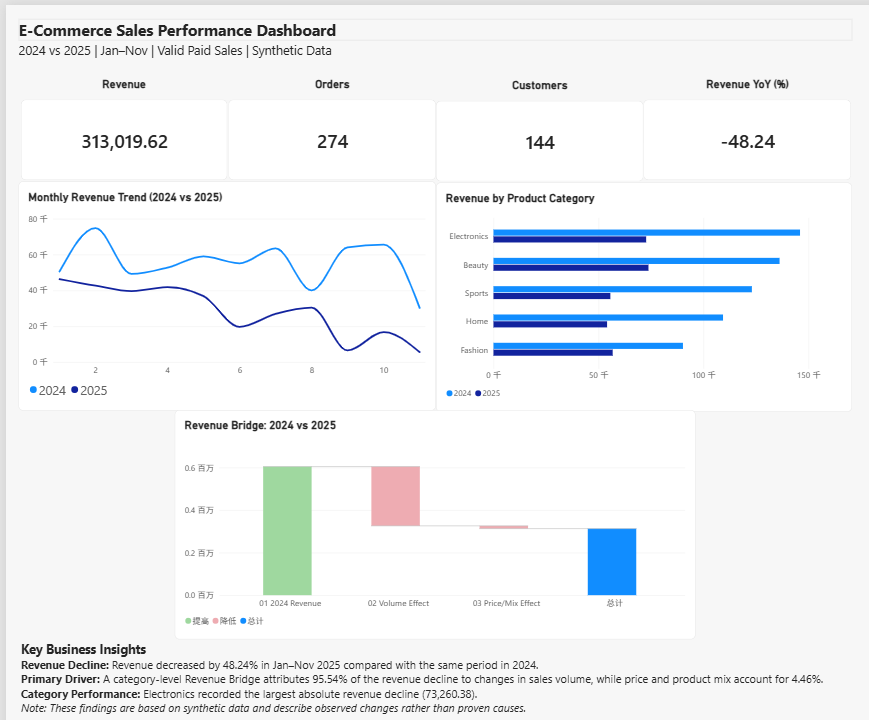

What the dashboard file says about the page in this screenshot:
{"tool":"powerbi","page":{"name":"第 1 页","canvas":[1920,1680],"ordinal":0},"visuals":[{"type":"cardVisual","title":"Revenue","fields":{"Data":["Sum(ecommerce_portfolio vw_dashboard_ytd_kpi.total_revenue)"]},"box":[26,124,351.1,175.5],"z":0},{"type":"cardVisual","title":"Orders","fields":{"Data":["Sum(ecommerce_portfolio vw_dashboard_ytd_kpi.total_orders)"]},"box":[378,124,353.7,175.5],"z":1000},{"type":"cardVisual","title":"Customers","fields":{"Data":["Sum(ecommerce_portfolio vw_dashboard_ytd_kpi.total_customers)"]},"box":[732,126,353.7,175.5],"z":2000},{"type":"cardVisual","title":"Revenue YoY (%)","fields":{"Data":["Sum(ecommerce_portfolio vw_dashboard_ytd_kpi.revenue_yoy_pct)"]},"box":[1086,124,353.7,175.5],"z":3000},{"type":"lineChart","title":"Monthly Revenue Trend (2024 vs 2025)","fields":{"Category":["ecommerce_portfolio vw_monthly_sales.order_month"],"Series":["ecommerce_portfolio vw_monthly_sales.order_year"],"Y":["Sum(ecommerce_portfolio vw_monthly_sales.total_revenue)"]},"box":[22,300,710,390],"z":4000},{"type":"clusteredBarChart","title":"Revenue by Product Category","fields":{"Category":["ecommerce_portfolio vw_category_monthly_sales.category"],"Series":["ecommerce_portfolio vw_category_monthly_sales.order_year"],"Y":["Sum(ecommerce_portfolio vw_category_monthly_sales.sales_revenue)"]},"box":[732,302,708,390],"z":5000},{"type":"waterfallChart","title":"Revenue Bridge: 2024 vs 2025","fields":{"Category":["Revenue_Bridge_Steps.Stage"],"Y":["Sum(Revenue_Bridge_Steps.Amount)"]},"box":[288,690,886,390],"z":6000},{"type":"textbox","box":[22,24,1418,38],"z":7000},{"type":"textbox","box":[22,62,848,38],"z":8000},{"type":"textbox","box":[26,1080,1414,180],"z":9000}]}

Visuals, with their boxes on the page's 1920x1680 design canvas (x1, y1, x2, y2). These are canvas units, not pixel positions in the 869x720 screenshot, which may show the page scaled, cropped or inside an application window:
"Revenue" cardVisual: 26, 124, 377, 300
"Orders" cardVisual: 378, 124, 732, 300
"Customers" cardVisual: 732, 126, 1086, 302
"Revenue YoY (%)" cardVisual: 1086, 124, 1440, 300
"Monthly Revenue Trend (2024 vs 2025)" lineChart: 22, 300, 732, 690
"Revenue by Product Category" clusteredBarChart: 732, 302, 1440, 692
"Revenue Bridge: 2024 vs 2025" waterfallChart: 288, 690, 1174, 1080
textbox: 22, 24, 1440, 62
textbox: 22, 62, 870, 100
textbox: 26, 1080, 1440, 1260
